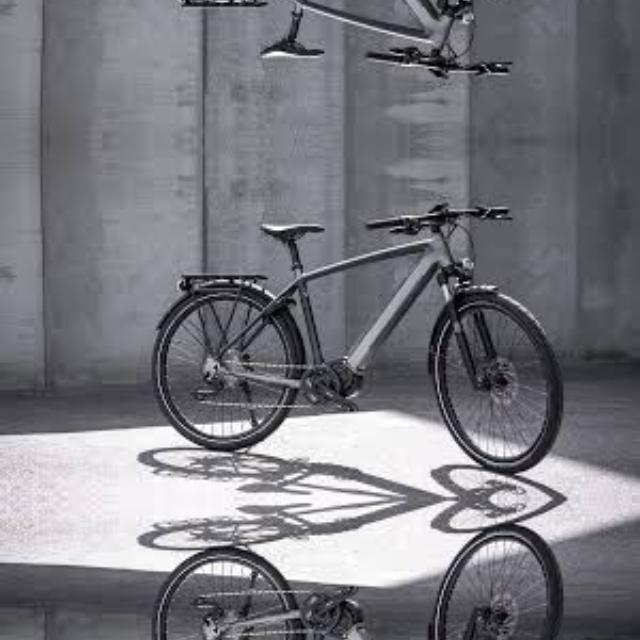obstacle: (152, 197, 564, 471), (151, 526, 564, 640), (151, 0, 564, 83)
